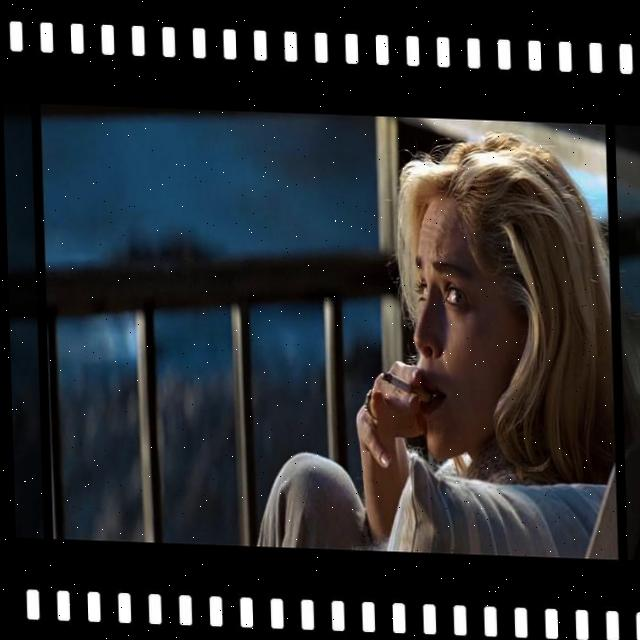cigarette: (377, 369, 430, 396)
